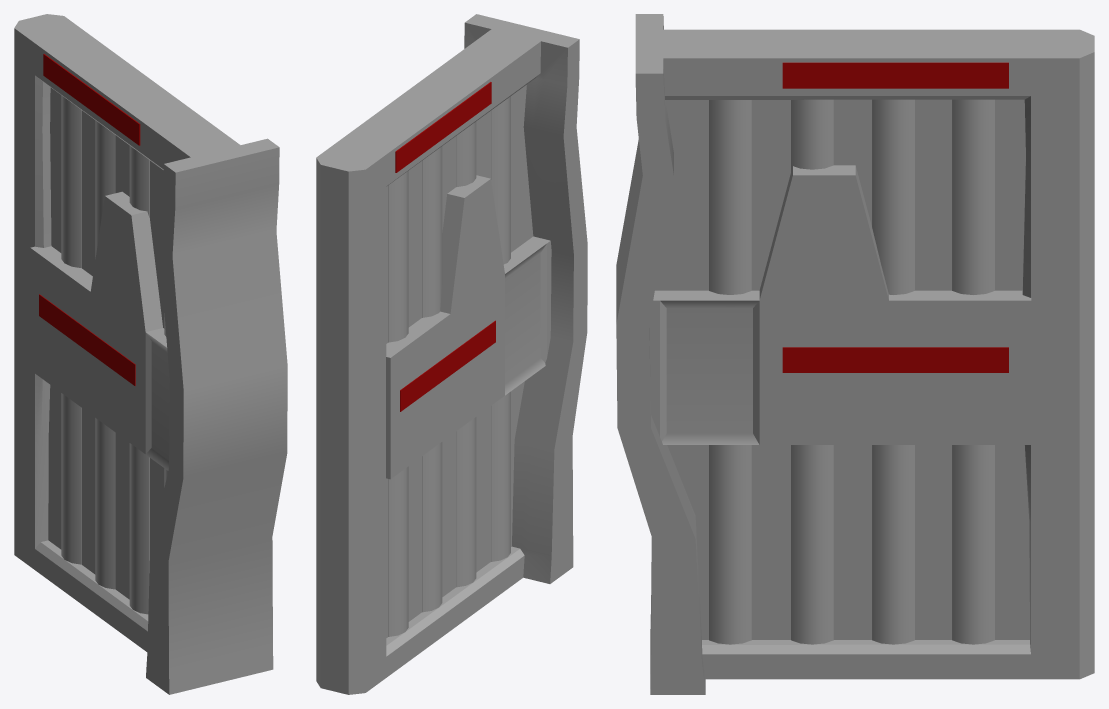
File: Door_3_withLeds.fbx
The picture shows the model from 3 angles, left to right: view 1: azimuth 30°, elevation 25°; view 2: azimuth 150°, elevation 25°; view 3: azimuth 270°, elevation 25°; orthographic projection. The views are drawn at different scales.
Parts seen in each view (by area): view 1: polySurface21, pasted__pasted__pCube21, pasted__pCube23; view 2: polySurface21, pasted__pasted__pCube21, pasted__pCube23; view 3: polySurface21, pasted__pasted__pCube22, pasted__pCube24.
Boxes of the visible parts, x1=… form: polySurface21: x1=14, y1=14, x2=287, y2=694; pasted__pasted__pCube21: x1=43, y1=54, x2=140, y2=145; pasted__pCube23: x1=39, y1=294, x2=135, y2=385; polySurface21: x1=316, y1=14, x2=587, y2=694; pasted__pasted__pCube21: x1=395, y1=82, x2=491, y2=172; pasted__pCube23: x1=400, y1=320, x2=495, y2=411; polySurface21: x1=616, y1=14, x2=1094, y2=694; pasted__pasted__pCube22: x1=782, y1=62, x2=1008, y2=88; pasted__pCube24: x1=782, y1=347, x2=1008, y2=372.
Size of the model in its own units: 88.95 by 431 by 301.
